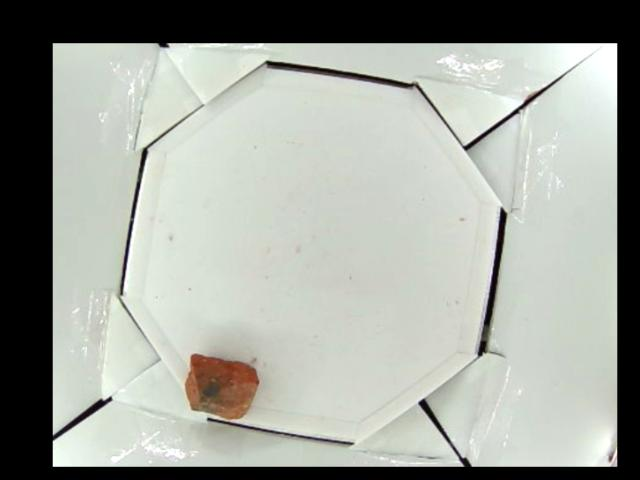Brisk: (185, 351, 259, 422)
